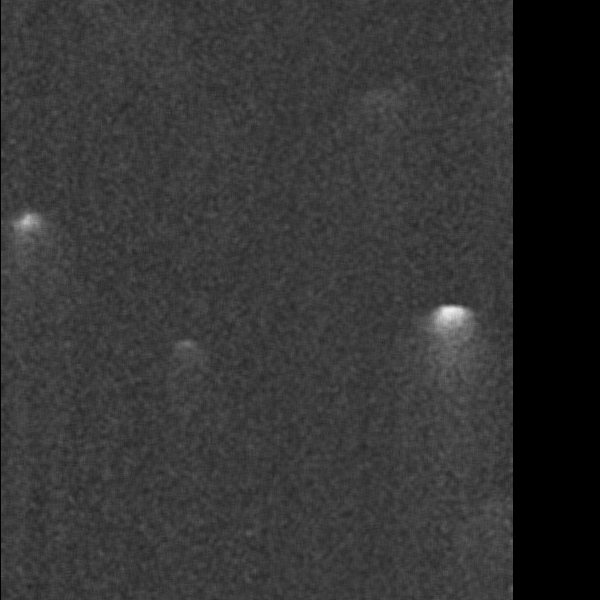spark: (329, 1, 397, 115), (129, 236, 192, 315), (437, 268, 490, 350)
